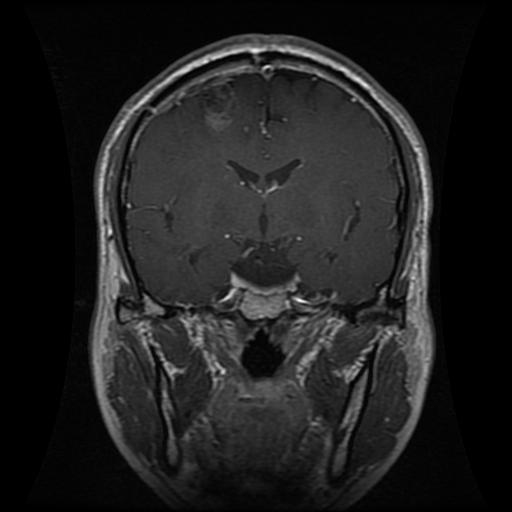Gliomia_tumour: (200, 77, 241, 134)
